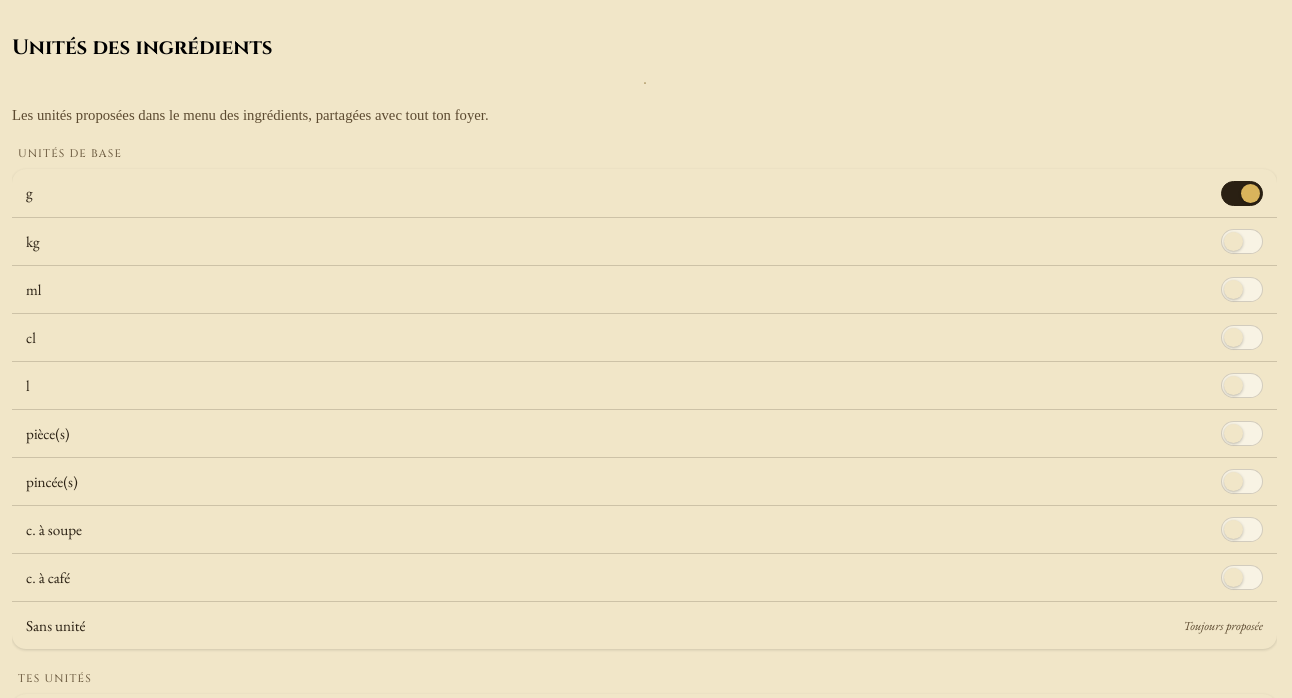
Test case: Réglages > Unités des ingrédients › refuse de masquer la dernière unité restante
What coordinates should you click on to do the following:
click the switch named "Proposer « g »"
I would click on:
 (1242, 193)
Its box is [1221,180,1263,206].
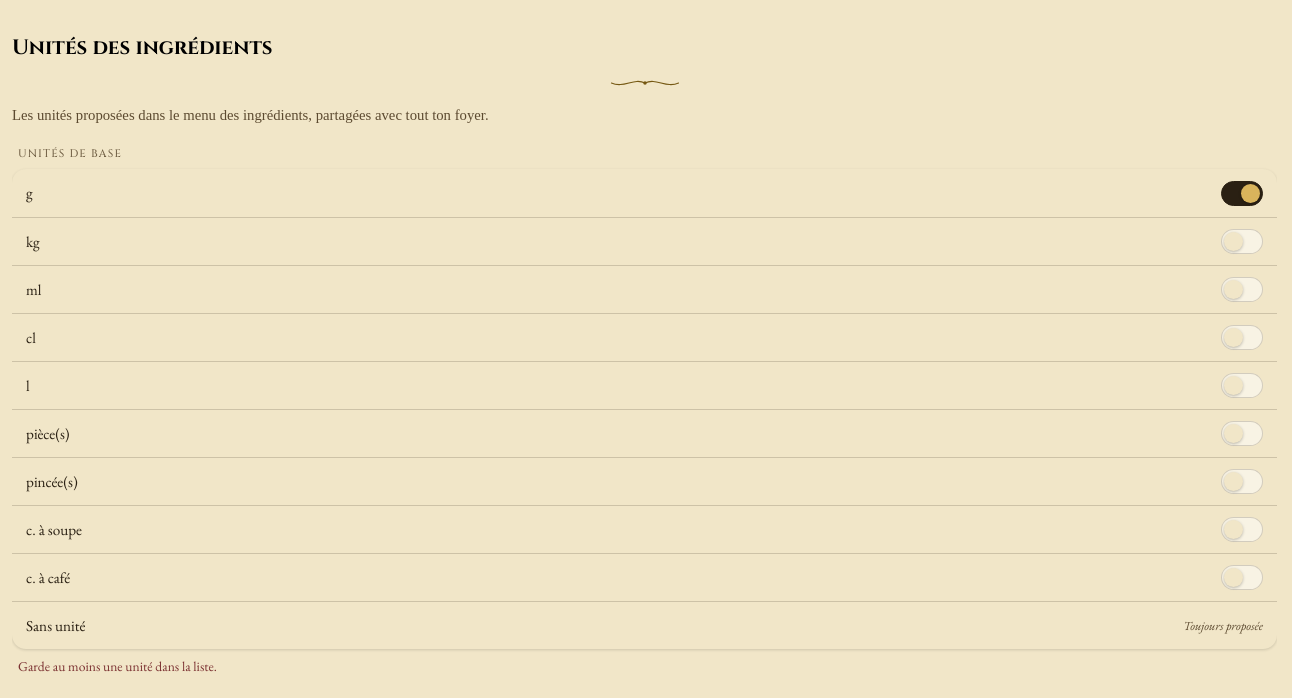
Now the message "Garde au moins une unité dans la liste." is shown, box [18,657,217,675]
